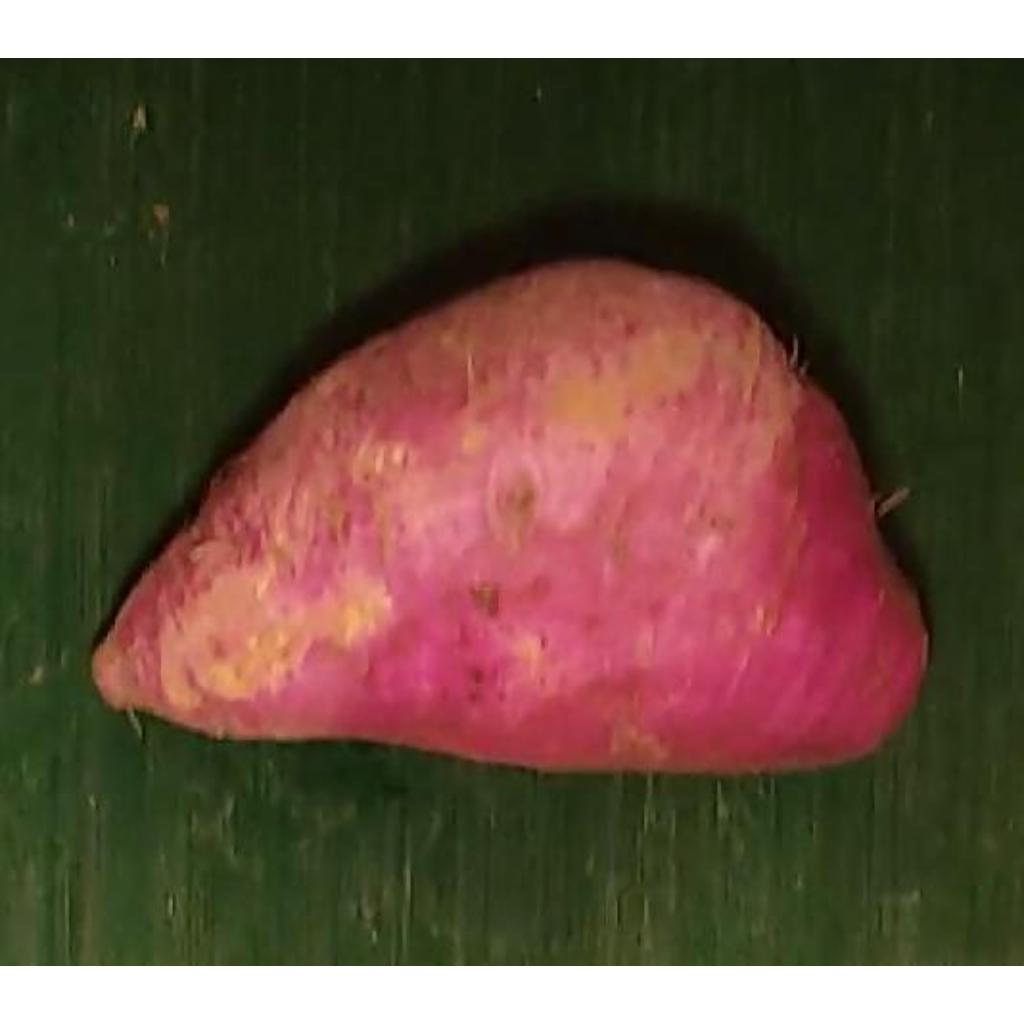Sweet Potato: (88, 257, 932, 777)
